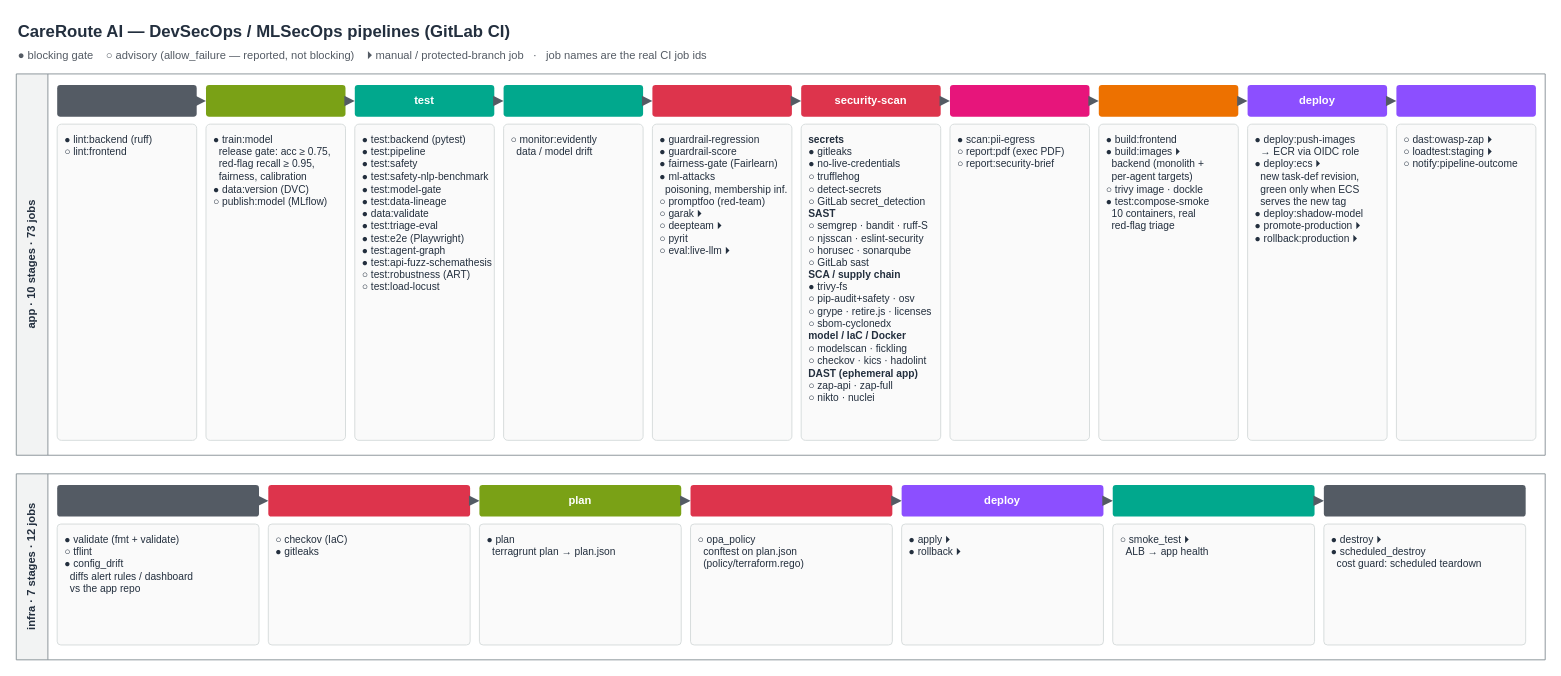
Some shapes in this 1561 by 676 pixel diagram are drawn without their labels. Each missing label, with the centre of its shape:
"ai-security" belongs at point 721,100.
"build" belongs at point 1168,100.
"cleanup" belongs at point 1424,500.
"lint" belongs at point 126,100.
"monitor" belongs at point 573,100.
"post-deploy" belongs at point 1465,100.
"report" belongs at point 1019,100.
"review" belongs at point 791,500.
"scan" belongs at point 369,500.
"train" belongs at point 275,100.
"validate" belongs at point 158,500.
"verify" belongs at point 1213,500.
